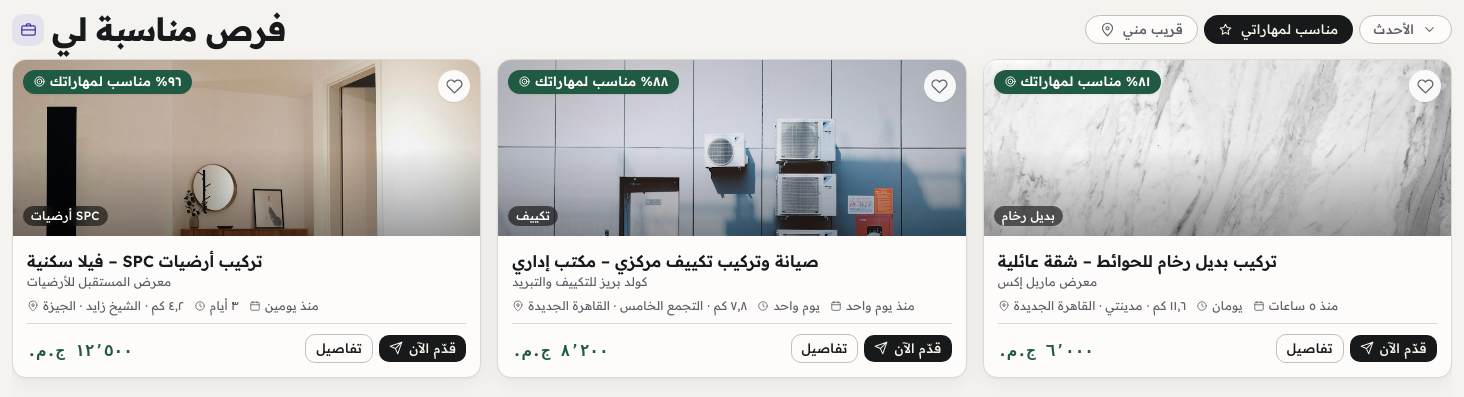
Test: JobOpportunitiesSection date sorting › uses a styled radio menu and visibly activates the date sort
The width and height of the screenshot is (1464, 397).
Click the button with aria-label "ترتيب حسب التاريخ" at (1405, 30), box [1359, 15, 1452, 44]
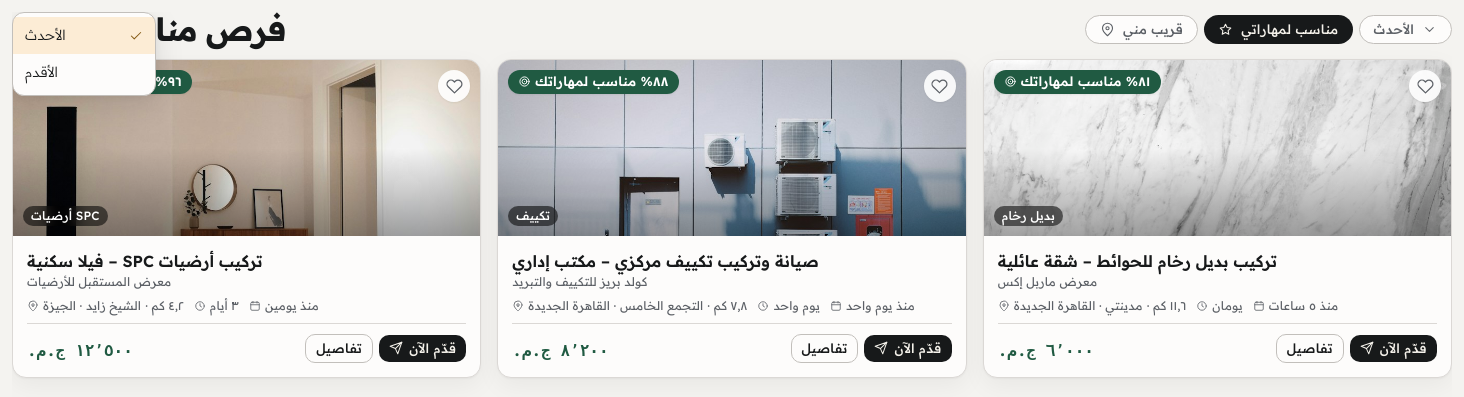
Result: the menu named "ترتيب حسب التاريخ" is shown at [12, 12, 156, 96]
Click the menu item "الأقدم" at (84, 72), box [13, 54, 155, 91]
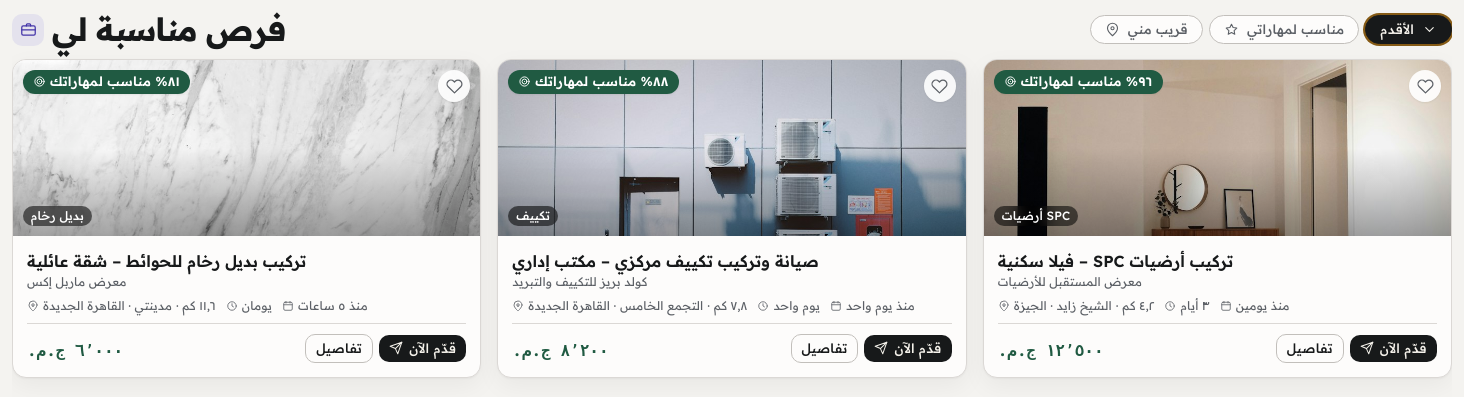
Result: the button with aria-label "ترتيب حسب التاريخ" reads "الأقدم" at [1365, 15, 1452, 44]
Result: the menu is gone
